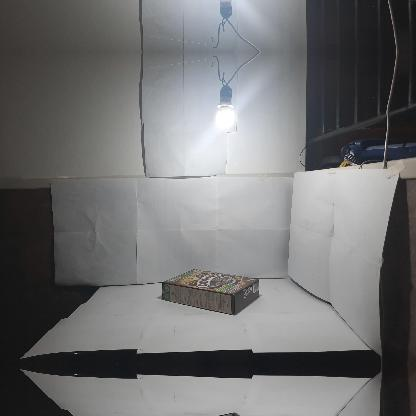Koko-Krunch: (162, 268, 258, 314)
